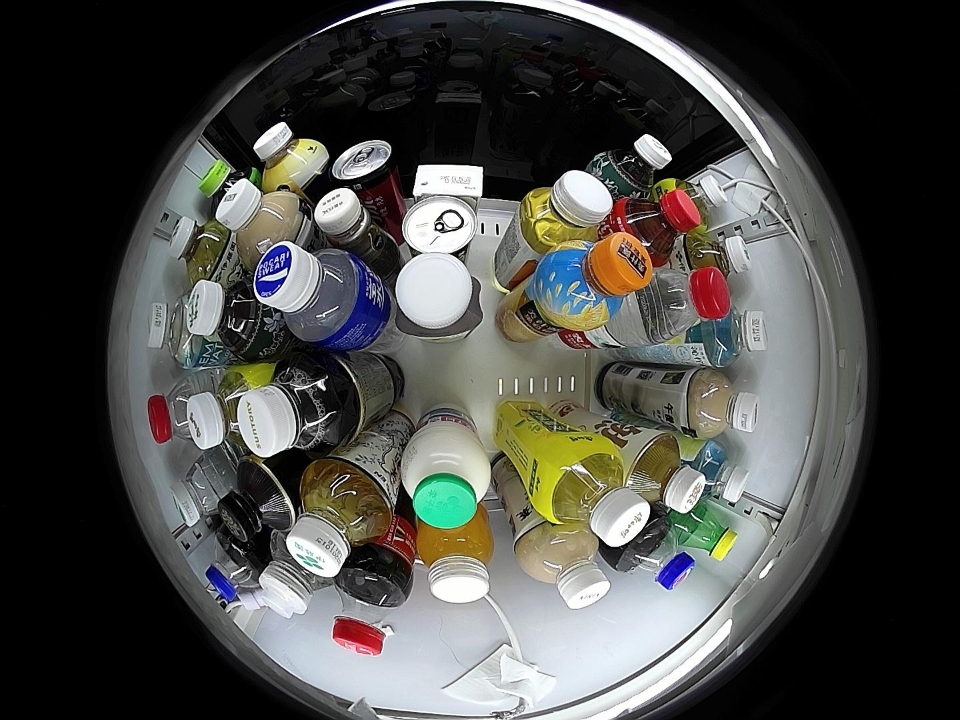asamu: (253, 121, 326, 189)
baicha: (286, 459, 395, 578), (168, 217, 235, 282), (684, 233, 752, 282)
baishikele-2: (615, 517, 695, 591), (205, 535, 265, 601)
baokuangli: (253, 242, 373, 348)
binghongcha: (614, 189, 702, 263)
bingtangxueli: (537, 439, 651, 548), (187, 366, 261, 452), (669, 173, 726, 229)
chapai2: (522, 169, 613, 250)
guolicheng: (538, 233, 653, 331)
jianjiao: (258, 536, 330, 620)
jindian: (411, 162, 485, 202)
kafei: (314, 188, 392, 265)
kele-b: (330, 566, 410, 657)
lingdukele: (331, 140, 399, 197)
liziyuan: (400, 423, 492, 530)
moliqingcha: (186, 280, 274, 360), (598, 133, 672, 200)
nongfushanquan: (645, 267, 731, 341), (147, 375, 203, 445)
qinningshui: (700, 305, 768, 367), (150, 296, 208, 368), (690, 440, 750, 505)
rancha-1: (216, 458, 298, 543)
rancha-2: (626, 431, 706, 515)
weic: (416, 514, 494, 604)
wuhounaicha: (516, 524, 611, 610), (216, 179, 304, 262), (687, 370, 761, 437)
wulongcha: (238, 358, 346, 458)
xuebi-b: (677, 504, 738, 563)
yezhi: (401, 197, 478, 257)
yibao: (169, 455, 232, 527)
yitengyuan: (197, 160, 256, 214)
youyanggudong: (392, 252, 484, 344)
